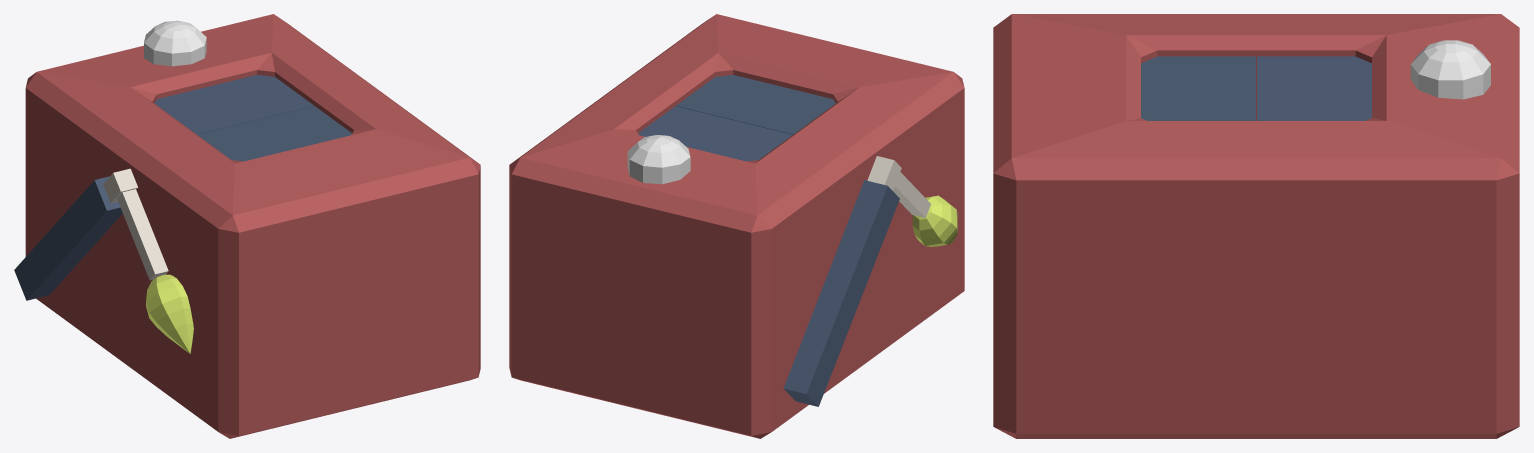
File: Factory.Welder.fbx
The picture shows the model from 3 angles, left to right: view 1: azimuth 30°, elevation 25°; view 2: azimuth 150°, elevation 25°; view 3: azimuth 270°, elevation 25°; orthographic projection. The views are drawn at different scales.
Parts seen in each view (by area): view 1: Factory.Welder, Welding.Welder, DoorRight.Welder, DoorLeft.Welder, Light.Welder; view 2: Factory.Welder, Welding.Welder, DoorLeft.Welder, DoorRight.Welder, Light.Welder; view 3: Factory.Welder, DoorLeft.Welder, DoorRight.Welder, Light.Welder.
Part boxes in pixels (x1,y1,x2,y2): Factory.Welder: [25, 14, 480, 438]; Welding.Welder: [14, 168, 193, 353]; DoorRight.Welder: [154, 75, 314, 134]; DoorLeft.Welder: [197, 106, 351, 161]; Light.Welder: [144, 20, 206, 66]; Factory.Welder: [509, 14, 964, 438]; Welding.Welder: [783, 156, 957, 406]; DoorLeft.Welder: [676, 75, 835, 134]; DoorRight.Welder: [638, 106, 792, 161]; Light.Welder: [627, 135, 690, 184]; Factory.Welder: [993, 14, 1519, 438]; DoorLeft.Welder: [1141, 56, 1255, 120]; DoorRight.Welder: [1257, 56, 1371, 120]; Light.Welder: [1410, 40, 1490, 99].
Size of the model in its own units: 105 by 88.61 by 131.
